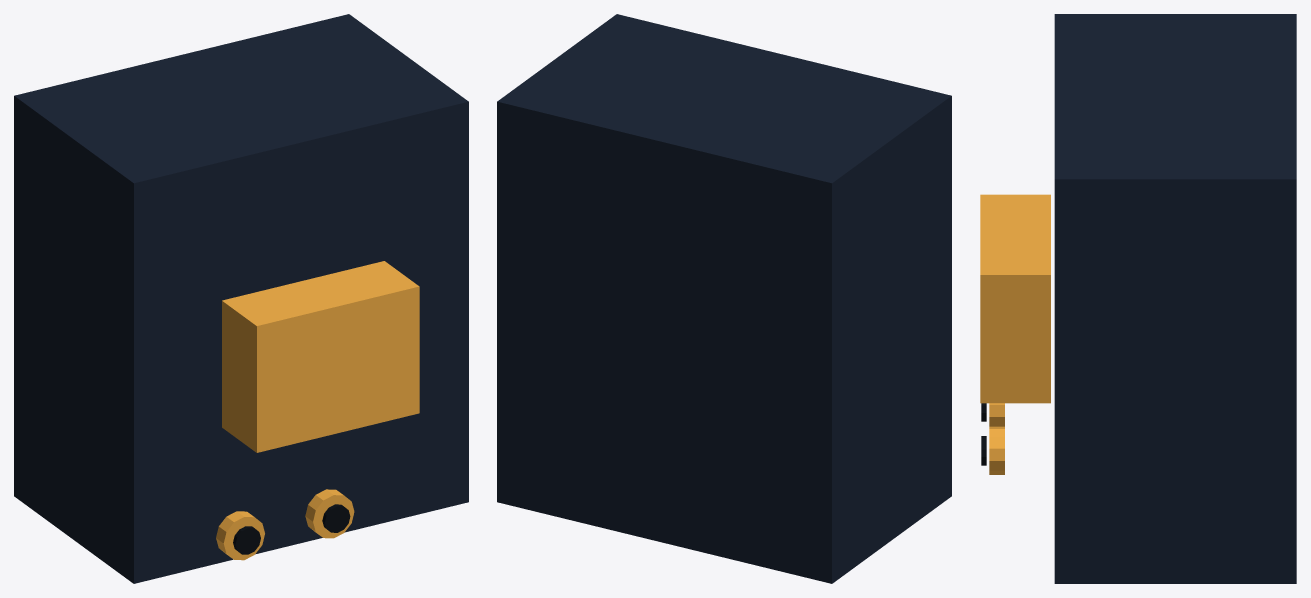
The model's file is 67_L90_PPUPrechargeContactor.fbx.
3 renders of one model, left to right at view 1: azimuth 30°, elevation 25°; view 2: azimuth 150°, elevation 25°; view 3: azimuth 270°, elevation 25°, orthographic.
Parts seen in each view (by area): view 1: L90_PPUPrechargeContactor, L90_PPUPrechargeContactor_Part_0001, L90_PPUPrechargeContactor_Part_0002, L90_PPUPrechargeContactor_Part_0004, L90_PPUPrechargeContactor_Part_0003, L90_PPUPrechargeContactor_Part_0005; view 2: L90_PPUPrechargeContactor; view 3: L90_PPUPrechargeContactor, L90_PPUPrechargeContactor_Part_0001, L90_PPUPrechargeContactor_Part_0004.
Boxes of the visible parts, x1,y1,x2,y2 form: L90_PPUPrechargeContactor: (14,14,468,583); L90_PPUPrechargeContactor_Part_0001: (222,261,419,452); L90_PPUPrechargeContactor_Part_0002: (216,511,264,560); L90_PPUPrechargeContactor_Part_0004: (305,489,354,538); L90_PPUPrechargeContactor_Part_0003: (233,526,260,554); L90_PPUPrechargeContactor_Part_0005: (322,504,350,532); L90_PPUPrechargeContactor: (497,14,951,583); L90_PPUPrechargeContactor: (1054,14,1296,583); L90_PPUPrechargeContactor_Part_0001: (980,194,1050,403); L90_PPUPrechargeContactor_Part_0004: (989,426,1004,474).
Size of the model in its own units: 105 by 120 by 85.
